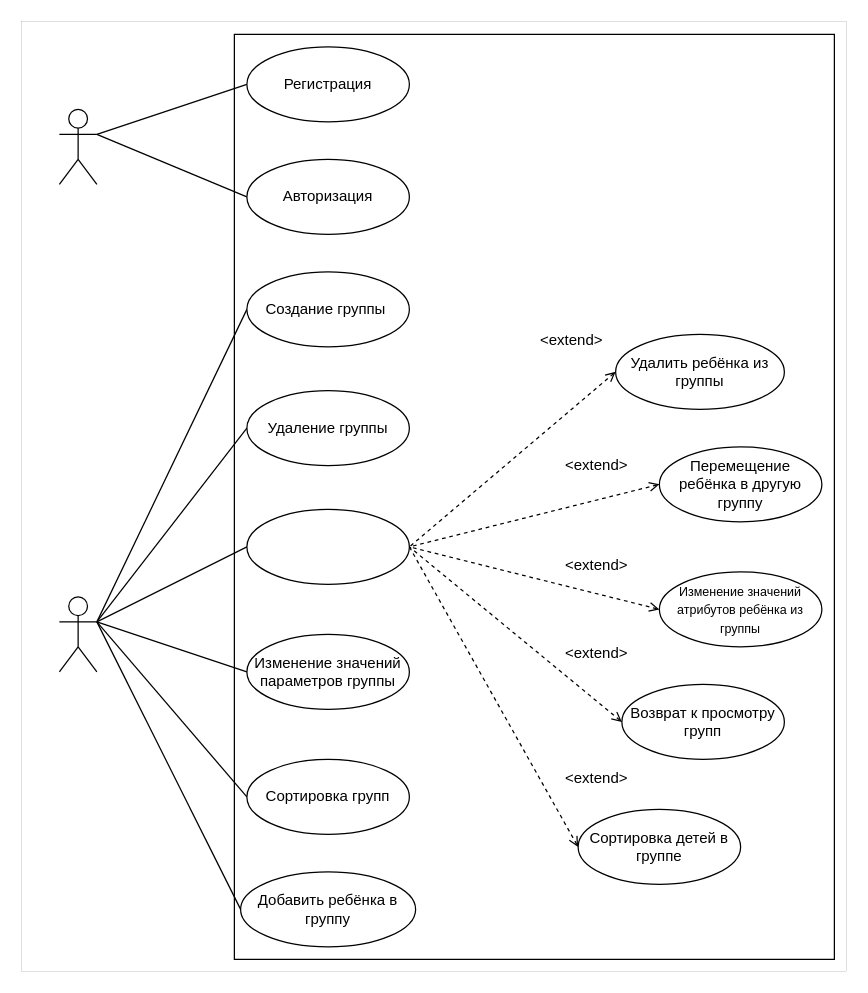
Image size: 868x993. Some labels were removed from this diagram. Here are the shapes that lost their labels. From the top down, the centre of each, then its label:
At [77,146]: "Гость".
At [327,546]: "Просмотр детей в группе".
At [77,634]: "Пользователь".
